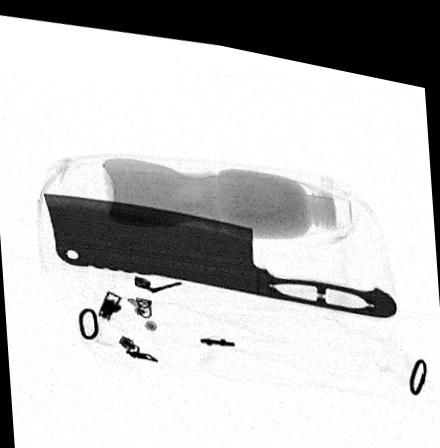Knife: (44, 190, 398, 302)
